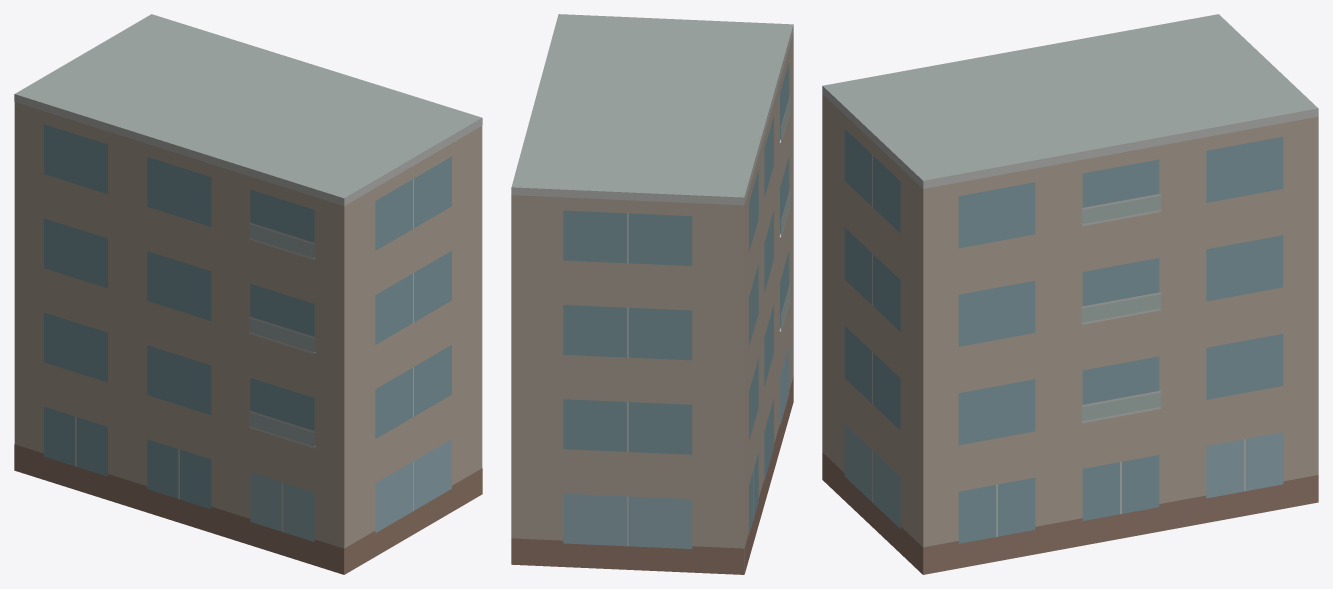
The model's file is survey-upis-32593914.glb.
3 renders of one model, left to right at view 1: azimuth 30°, elevation 25°; view 2: azimuth 150°, elevation 25°; view 3: azimuth 270°, elevation 25°, orthographic. The views are drawn at different scales.
Visible parts, largest first — view 1: survey-upis-32593914.tmp; view 2: survey-upis-32593914.tmp; view 3: survey-upis-32593914.tmp.
Boxes of the visible parts, x1,y1,x2,y2 form: survey-upis-32593914.tmp: [14, 14, 482, 574]; survey-upis-32593914.tmp: [511, 14, 793, 574]; survey-upis-32593914.tmp: [822, 14, 1318, 574].
Size of the model in its own units: 10.73 by 11.8 by 13.48.
